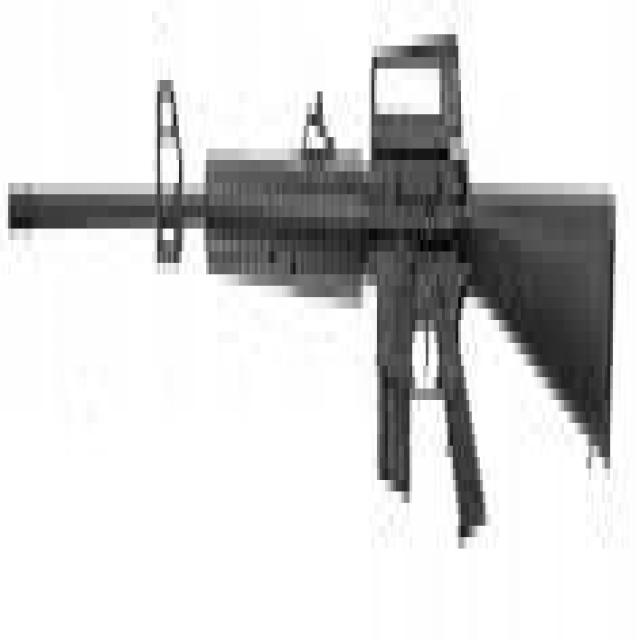rifle: (8, 16, 619, 567)
